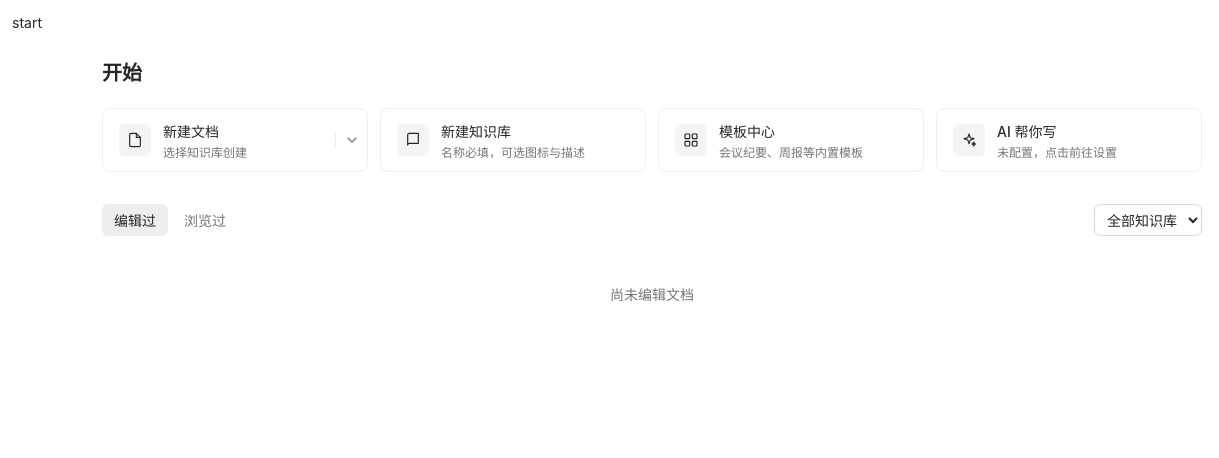
Test: StartPage › 下拉选择目标分组创建文档
The width and height of the screenshot is (1219, 458).
Click the button named "选择目标知识库或分组" at (351, 140), box [335,132,367,148]
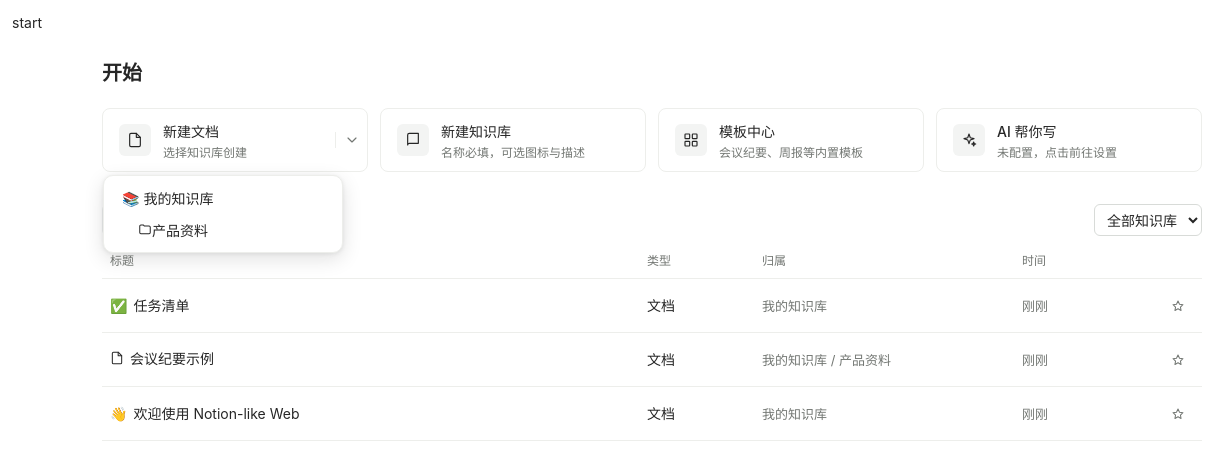
Click the menu item "产品资料" at (223, 230), box [110,214,336,246]
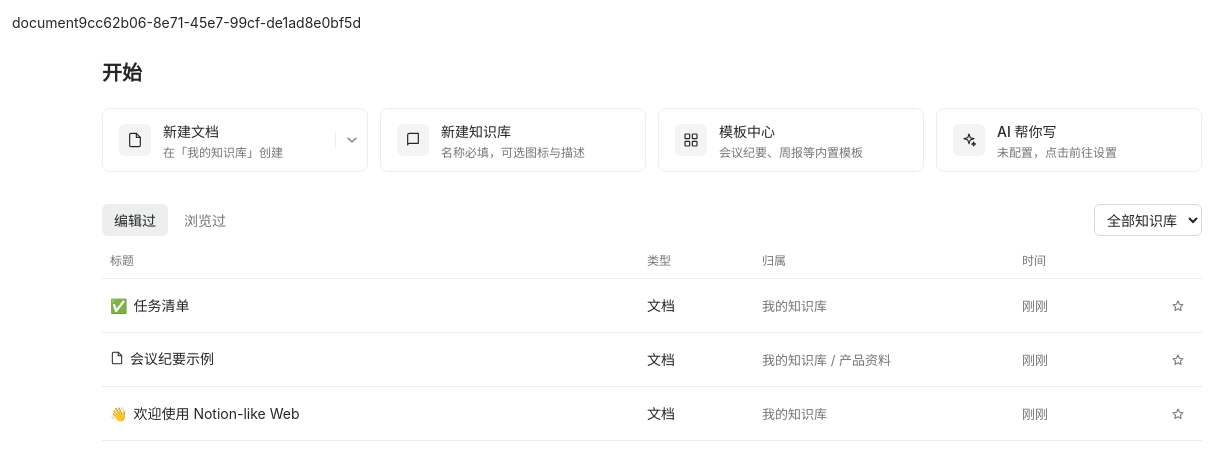
Now the text with test id "view" reads "document", box [12,14,78,31]
